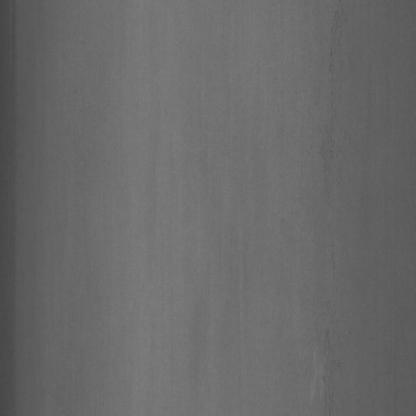silk_spot: (301, 294, 349, 413)
